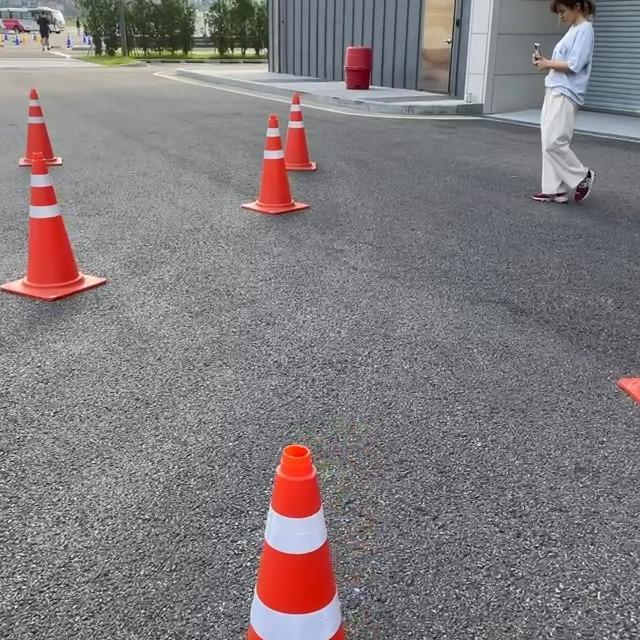fallen_object: (195, 391, 404, 640), (0, 156, 124, 319), (203, 119, 320, 247), (270, 77, 358, 196), (5, 66, 72, 168)
